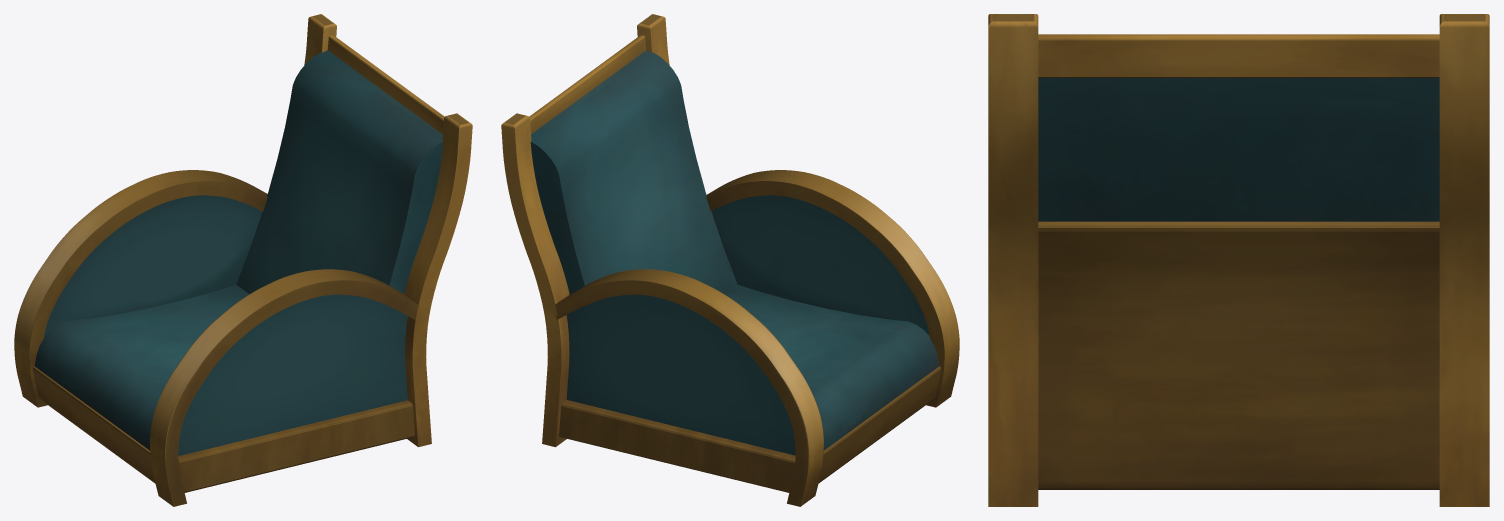
File: CI_055_056_057_058_armchair.glb
3 views of the same model, side by side, from view 1: azimuth 30°, elevation 25°; view 2: azimuth 150°, elevation 25°; view 3: azimuth 270°, elevation 25° (orthographic). The views are drawn at different scales.
Parts seen in each view (by area): view 1: seat_cushion, wood, sides; view 2: seat_cushion, wood, sides; view 3: wood, seat_cushion.
Part boxes in pixels (x1,y1,x2,y2): seat_cushion: (34,50,443,450); wood: (14,14,472,506); sides: (44,195,407,455); seat_cushion: (530,50,939,450); wood: (501,14,959,506); sides: (566,195,929,455); wood: (988,14,1489,506); seat_cushion: (1038,78,1439,221).
Bounding box in the file's own units: 1.49 × 1.43 × 1.26.
Materials: 1 (1 with a texture image).
